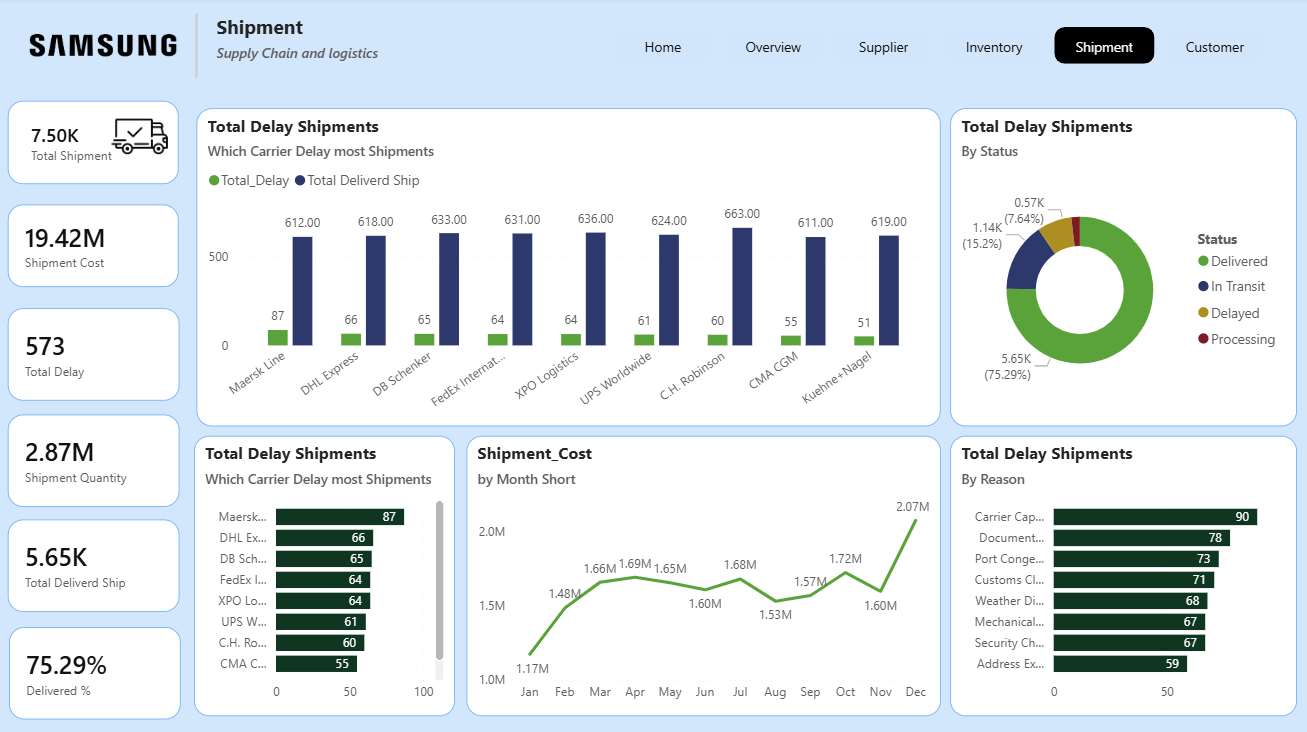

The page's visual inventory and layout, read from the dashboard file:
{"tool":"powerbi","page":{"name":"Shipment","canvas":[1280,720],"ordinal":4},"visuals":[{"type":"textbox","title":"Shipment","box":[207.9,15.9,220.1,80],"z":0},{"type":"shape","box":[178.5,15.9,29.3,63.6],"z":1000},{"type":"image","box":[18.8,23.8,160,47.5],"z":2000},{"type":"cardVisual","fields":{"Data":["MeasuresTable.Total_Delay"]},"box":[9.1,305,168,90],"z":3000},{"type":"cardVisual","fields":{"Data":["MeasuresTable.Total_Shipment_Quantity"]},"box":[9.1,409,168,90],"z":4000},{"type":"cardVisual","fields":{"Data":["MeasuresTable.Total Deliverd Ship"]},"box":[9.1,511.7,168,90],"z":5000},{"type":"cardVisual","fields":{"Data":["MeasuresTable.Delivered %"]},"box":[10.4,615.7,168,90],"z":6000},{"type":"clusteredBarChart","title":"Total Delay Shipments","fields":{"Category":["Fact_shipment.carrier"],"Y":["MeasuresTable.Total_Delay"]},"box":[190.6,429.8,255,274.7],"z":7000},{"type":"group","id":"g1","title":"Group 1","box":[8.9,101.1,167.2,81.7],"z":8000},{"type":"group","id":"g2","title":"Group 2","box":[8.8,202.5,167.5,81],"z":9000},{"type":"image","box":[107.6,108.8,59.9,55],"z":10000},{"type":"clusteredColumnChart","title":"Total Delay Shipments","fields":{"Category":["Fact_shipment.carrier"],"Y":["MeasuresTable.Total_Delay","MeasuresTable.Total Deliverd Ship"]},"box":[193.2,109.1,728.2,311.5],"z":11000},{"type":"group","id":"g3","title":"Group 2","box":[457.4,429.8,464,274.7],"z":12000},{"type":"clusteredBarChart","title":"Total Delay Shipments","fields":{"Y":["MeasuresTable.Total_Delay"],"Category":["Fact_shipment.delay_reason"]},"box":[930.6,429.8,339.1,274.7],"z":13000},{"type":"donutChart","title":"Total Delay Shipments","fields":{"Y":["MeasuresTable.Total_Shipment"],"Category":["Fact_shipment.status"]},"box":[930.6,109.1,339.1,311.5],"z":14000},{"type":"pageNavigator","box":[600.7,28.9,641.4,36.8],"z":15000},{"type":"cardVisual","fields":{"Data":["MeasuresTable.Shipment_Cost"]},"box":[8.8,202.5,167.5,81],"z":19000,"group":"g2"},{"type":"lineChart","fields":{"Y":["MeasuresTable.Shipment_Cost"],"Category":["Dim_date.Month Short"]},"box":[457.4,429.8,464,274.7],"z":19000,"group":"g3"},{"type":"cardVisual","fields":{"Data":["MeasuresTable.Total_Shipment"]},"box":[8.9,101.1,167.2,81.7],"z":24000,"group":"g1"}]}

Visuals, with their boxes in screenshot pixels (x1, y1, x2, y2), scaled from the page's 1280x720 canvas onto the 1307x732 screenshot:
"Shipment" textbox: <region>212, 16, 437, 97</region>
shape: <region>182, 16, 212, 81</region>
image: <region>19, 24, 183, 72</region>
cardVisual - MeasuresTable.Total_Delay: <region>9, 310, 181, 402</region>
cardVisual - MeasuresTable.Total_Shipment_Quantity: <region>9, 416, 181, 507</region>
cardVisual - MeasuresTable.Total Deliverd Ship: <region>9, 520, 181, 612</region>
cardVisual - MeasuresTable.Delivered %: <region>11, 626, 182, 717</region>
"Total Delay Shipments" clusteredBarChart: <region>195, 437, 455, 716</region>
"Group 1" group: <region>9, 103, 180, 186</region>
"Group 2" group: <region>9, 206, 180, 288</region>
image: <region>110, 111, 171, 167</region>
"Total Delay Shipments" clusteredColumnChart: <region>197, 111, 941, 428</region>
"Group 2" group: <region>467, 437, 941, 716</region>
"Total Delay Shipments" clusteredBarChart: <region>950, 437, 1296, 716</region>
"Total Delay Shipments" donutChart: <region>950, 111, 1296, 428</region>
pageNavigator: <region>613, 29, 1268, 67</region>
cardVisual - MeasuresTable.Shipment_Cost: <region>9, 206, 180, 288</region>
lineChart - MeasuresTable.Shipment_Cost x Dim_date.Month Short: <region>467, 437, 941, 716</region>
cardVisual - MeasuresTable.Total_Shipment: <region>9, 103, 180, 186</region>
